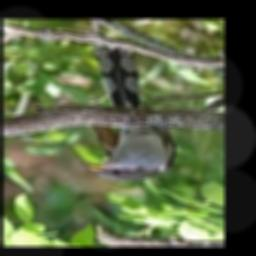Cuckoo: (79, 44, 176, 182)
